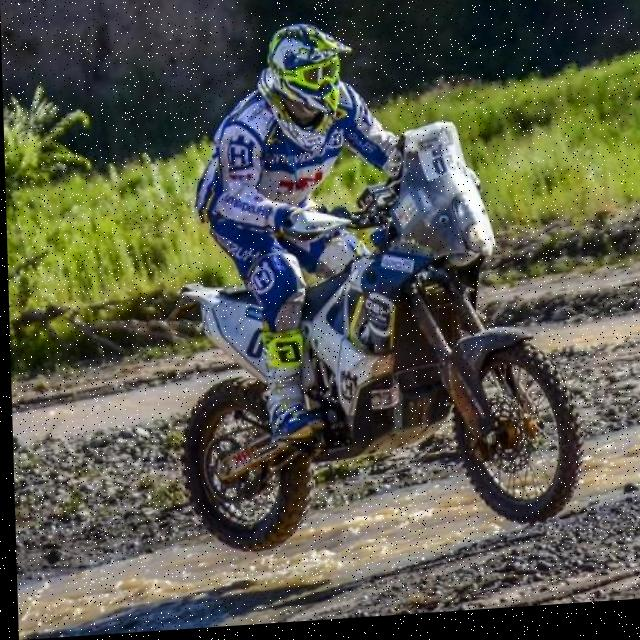illegal_helmet: (258, 20, 361, 128)
